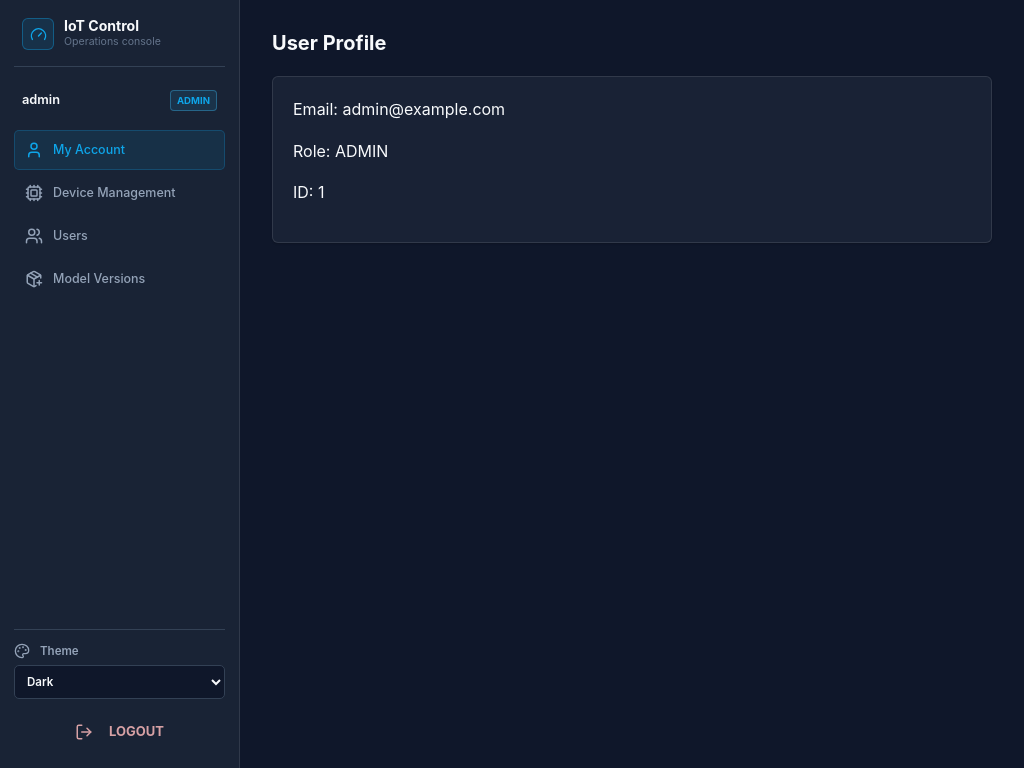
it: Admin User Management › should approve a pending user
What coordinates should you click on to do the following:
click the button "Users"
I would click on:
 (120, 236)
Its box is left=14, top=216, right=225, bottom=256.
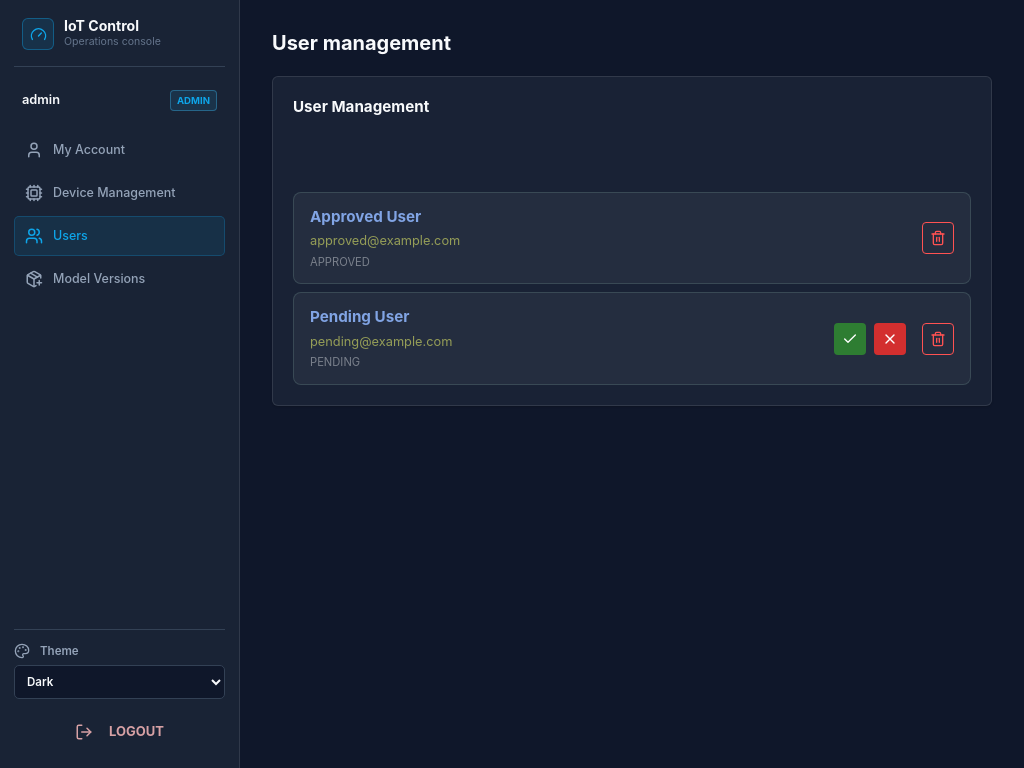
Result: the heading "User Management" is shown at left=293, top=97, right=429, bottom=116
What coordinates should you click on to do the following:
click the button with test id "approve-user-2"
I would click on:
 (850, 339)
Its box is left=834, top=323, right=866, bottom=355.
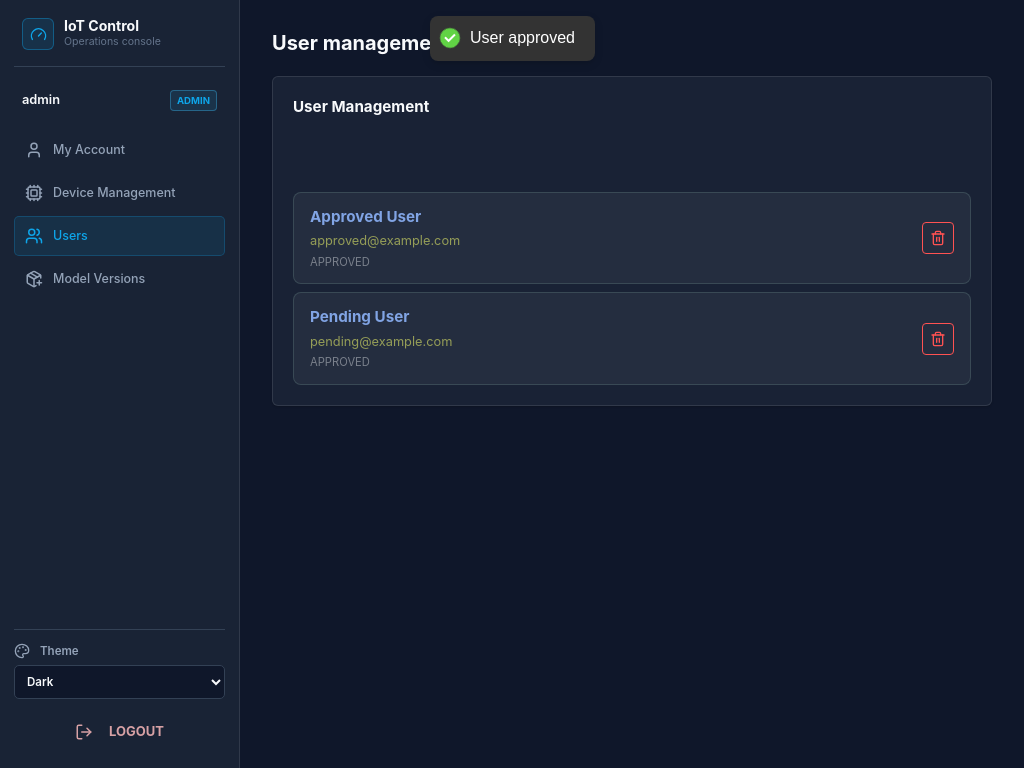
Result: the text "APPROVED" below "pending@example.com" is shown at left=310, top=355, right=370, bottom=369
Result: the text "User approved" is shown at left=470, top=28, right=574, bottom=49
